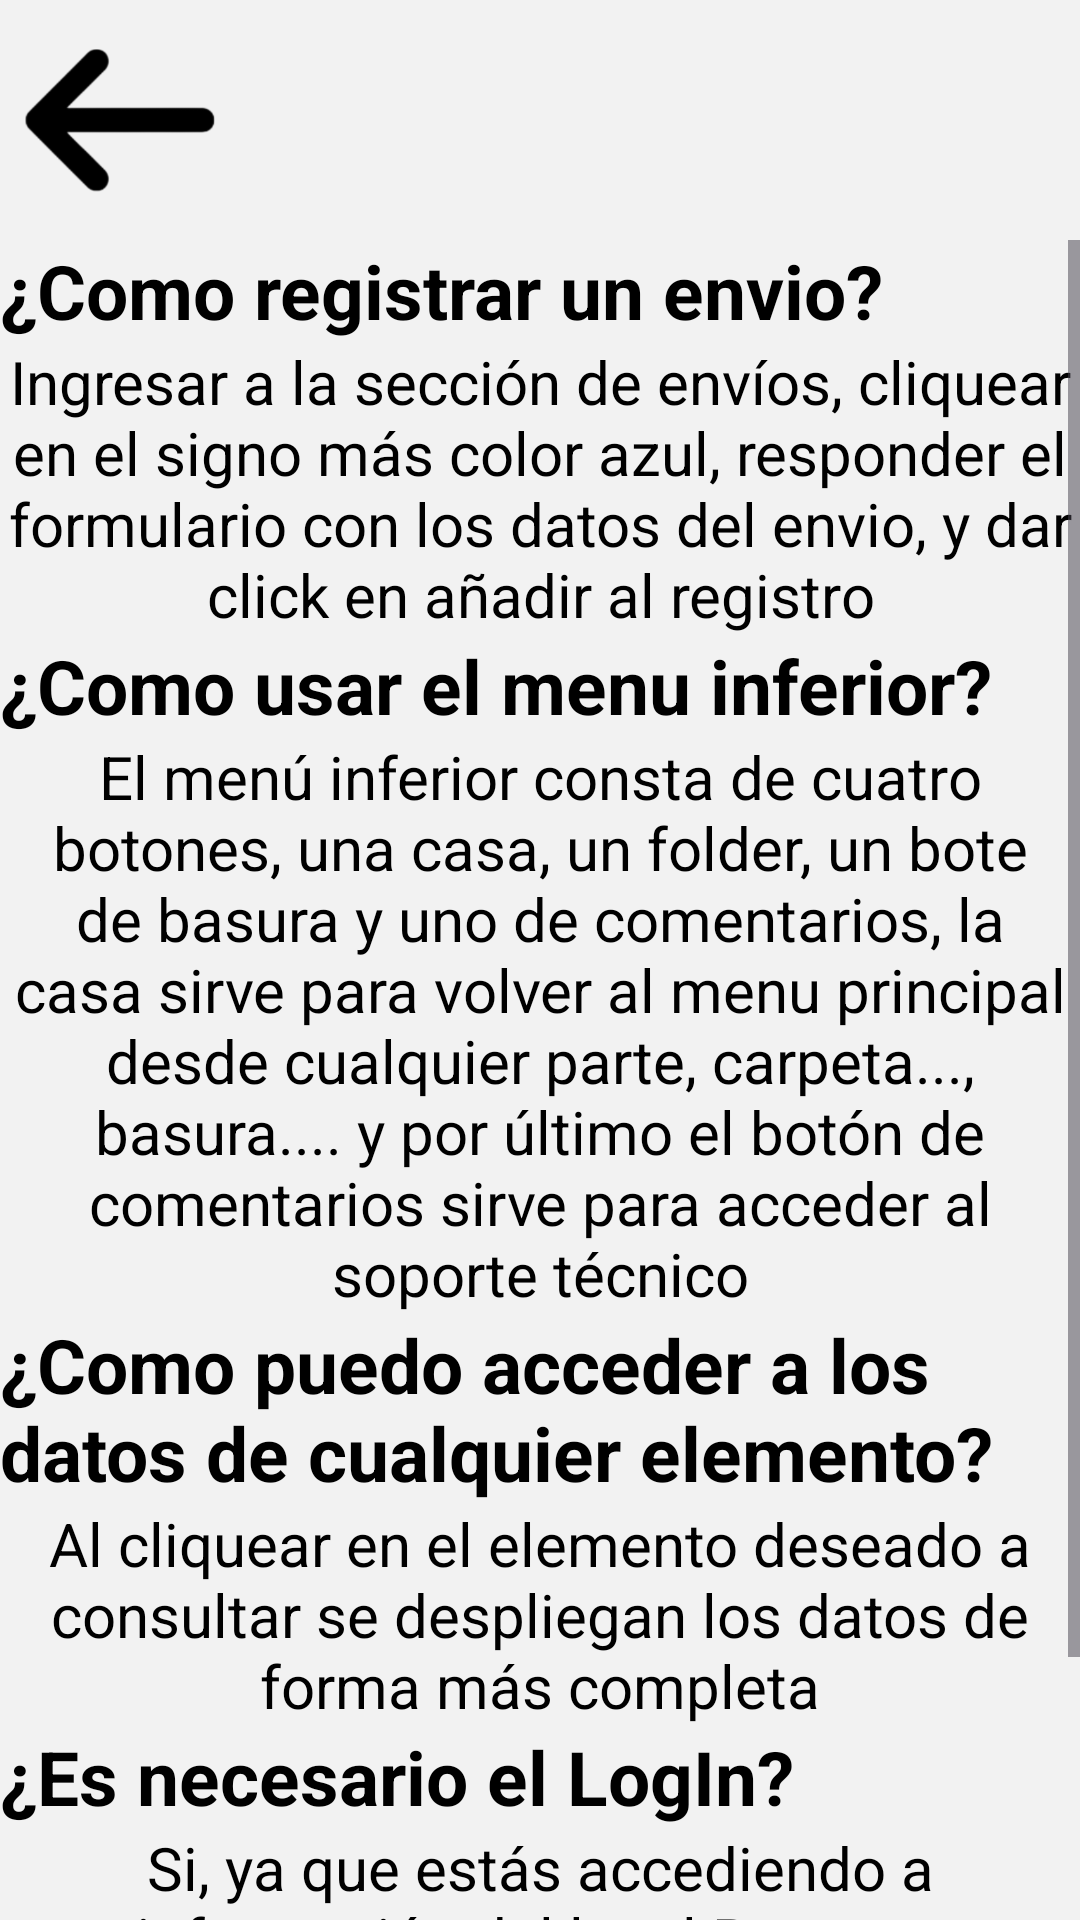

Named icons in this screenshot (1080 x 1920) and their centers, [x,y]:
flecha: [120,120]
